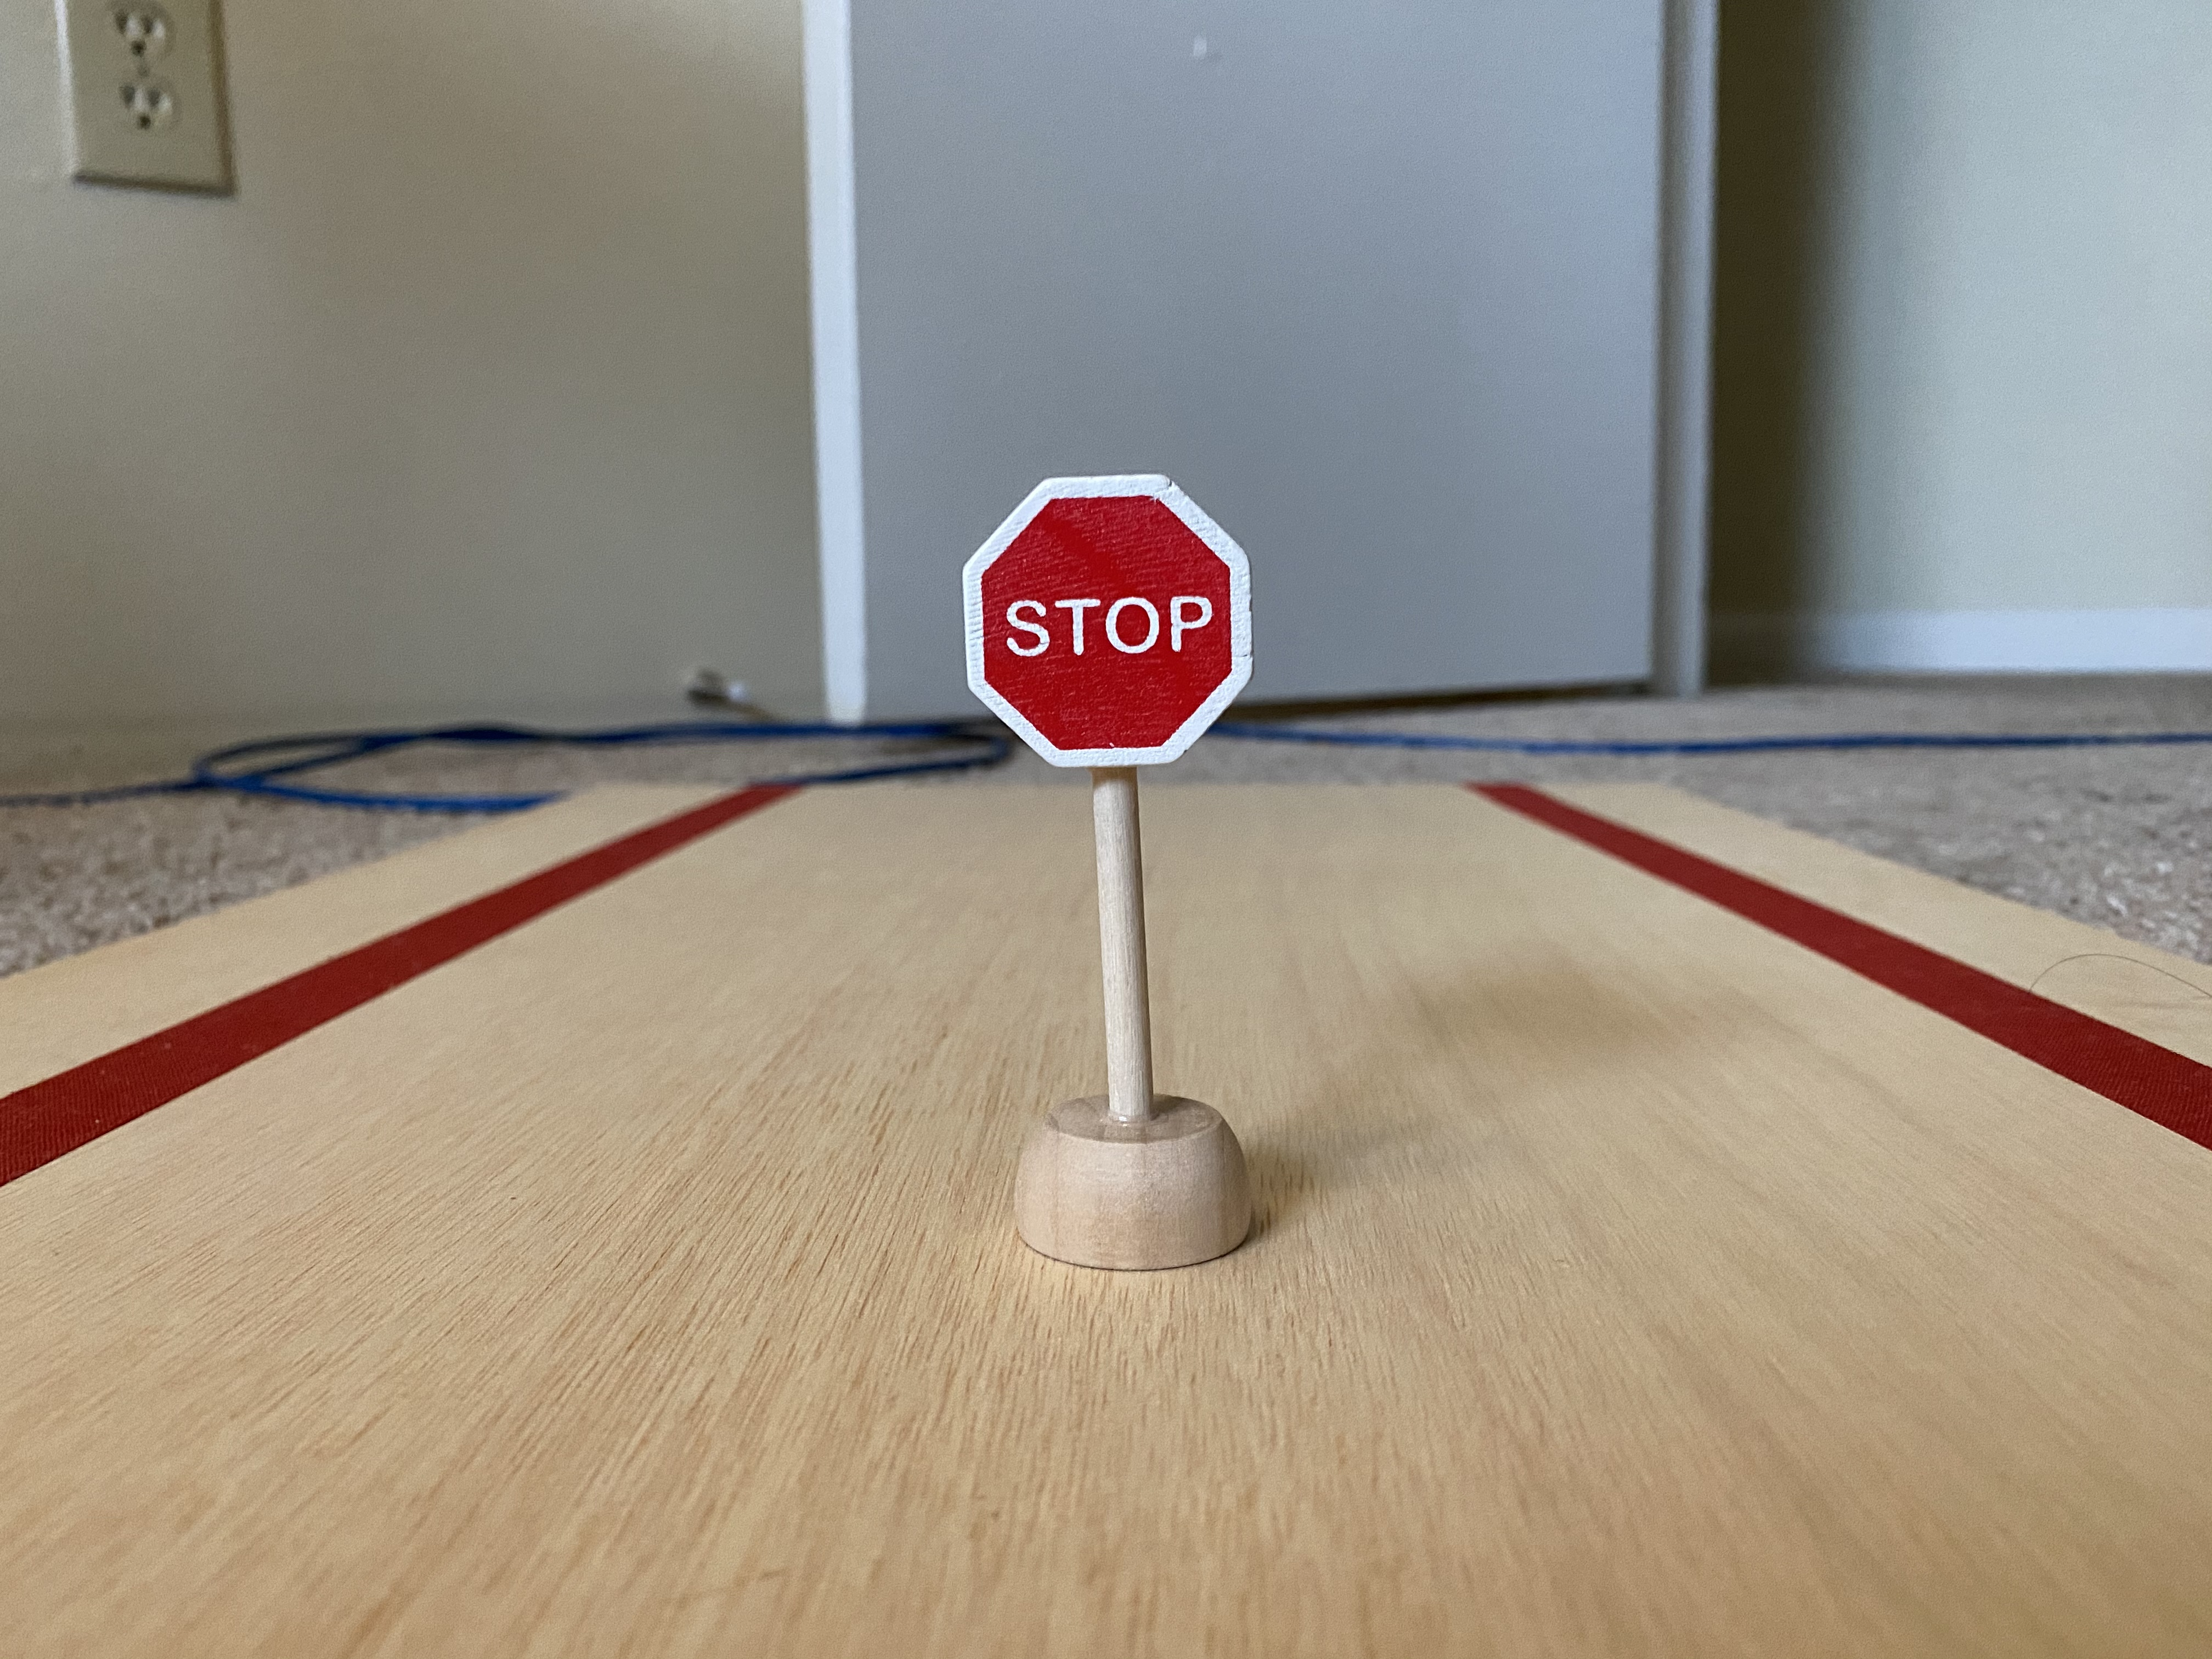Stop Sign: (932, 460, 1289, 779)
